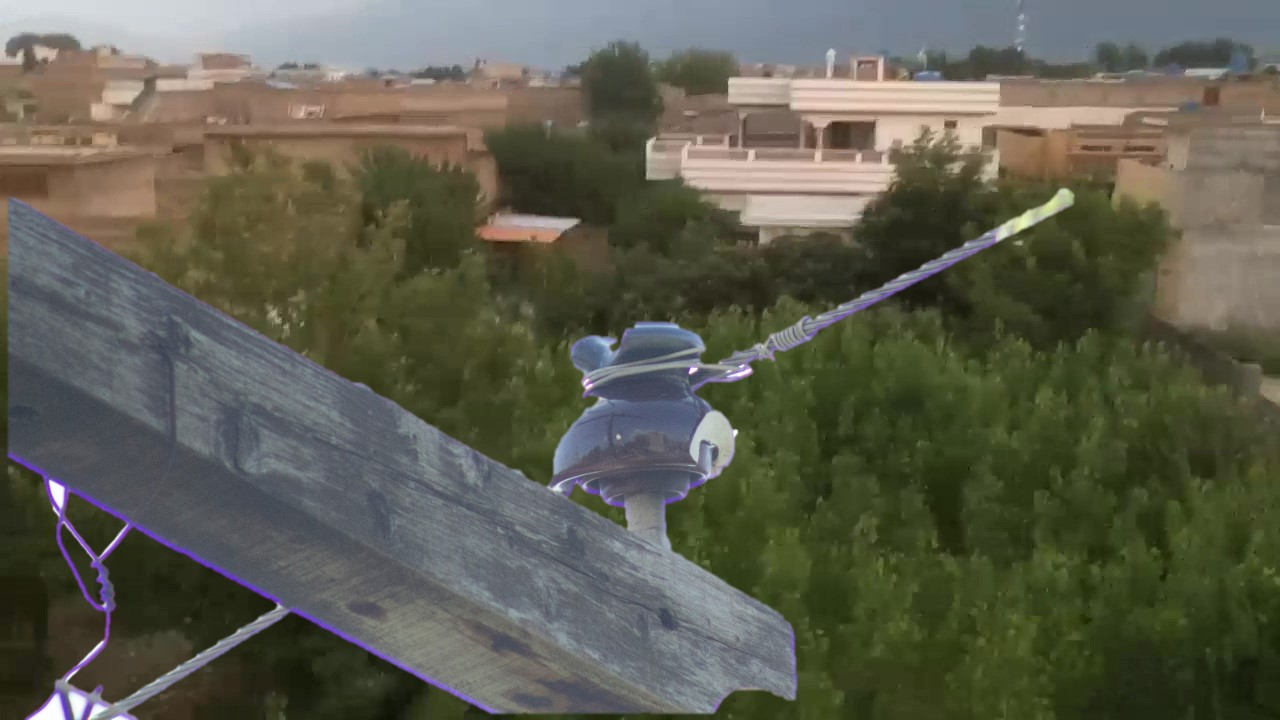defect_pin: (548, 310, 747, 503)
